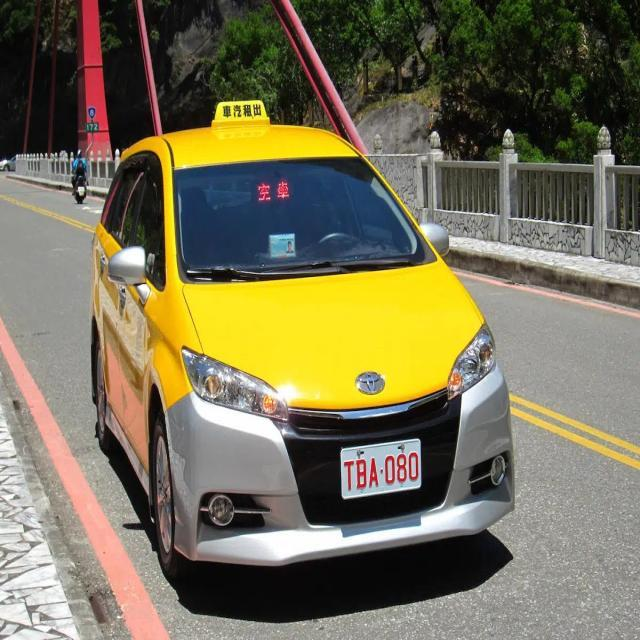taxi: (63, 88, 547, 592)
